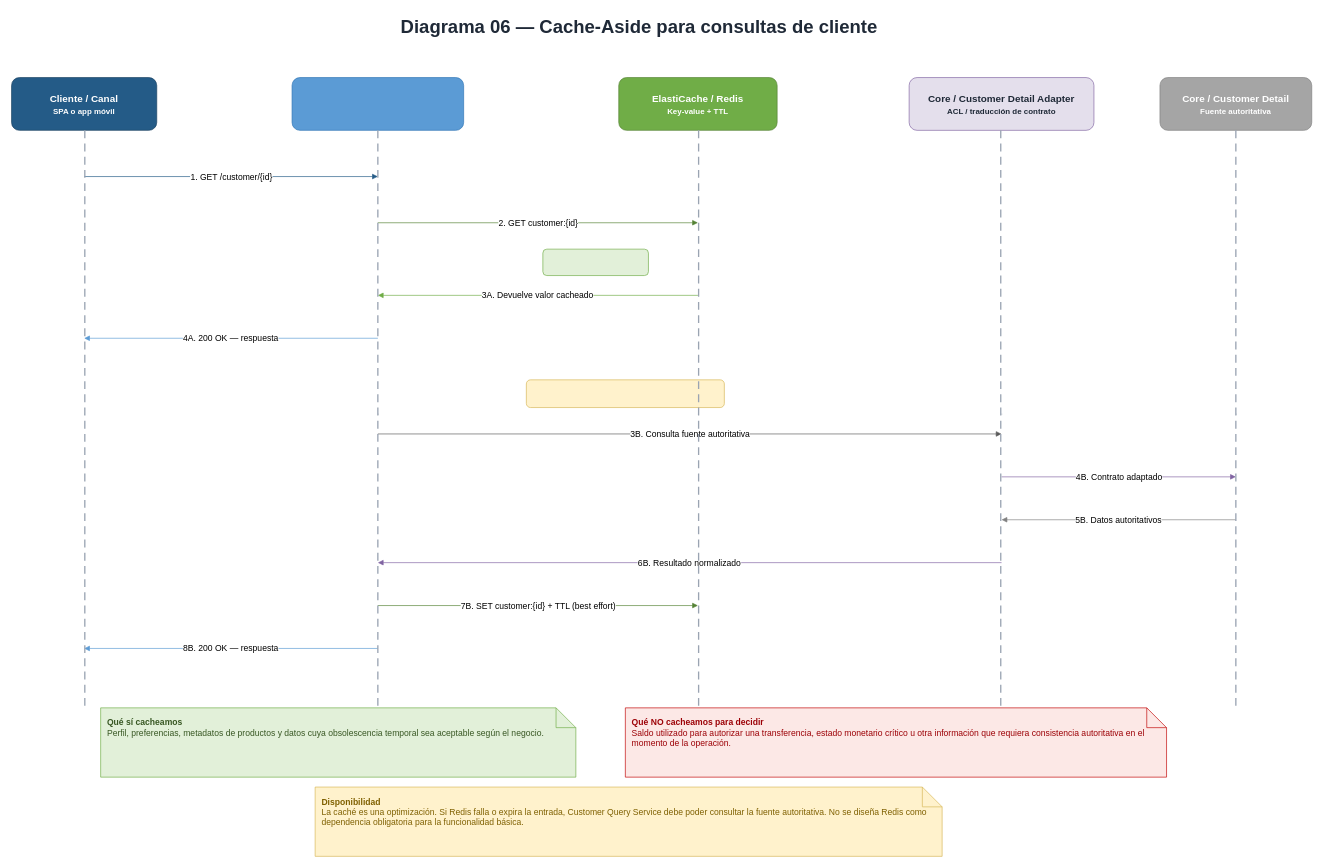
Image size: 1323x868. Some labels were removed from this diagram. The shapes that lost their labels are listed below. From the top down, each one's centre as x and y in pixels, then its label:
At pixel 377 103: "Customer Query Service Aplica patrón Cache-Aside".
At pixel 595 262: "CACHE HIT".
At pixel 625 393: "CACHE MISS / REDIS NO DISPONIBLE".
